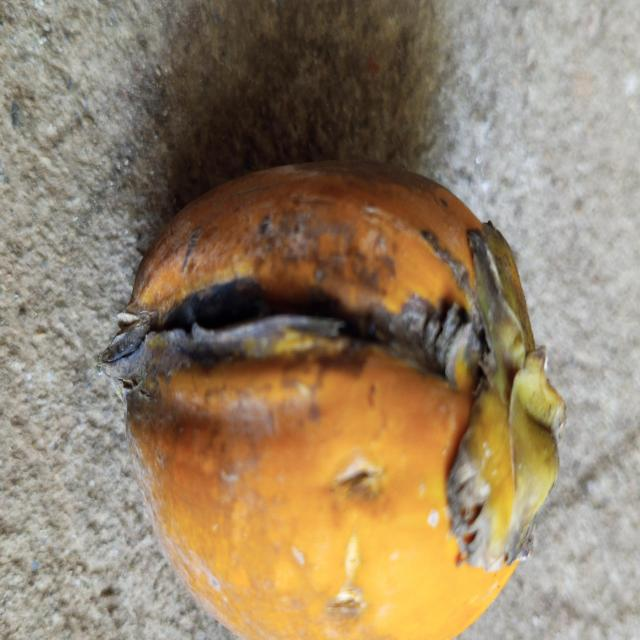damaged: (101, 160, 565, 640)
